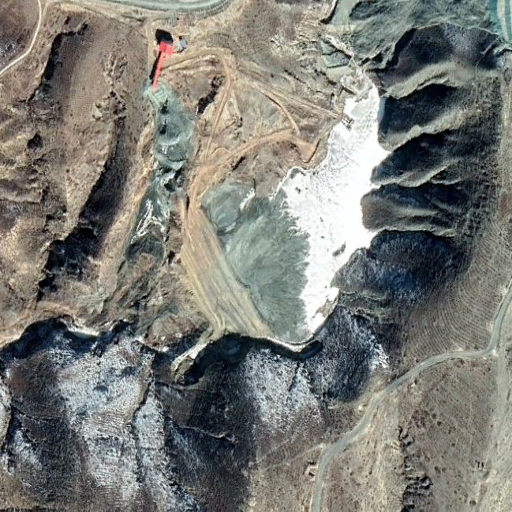tp: (174, 74, 396, 351)
